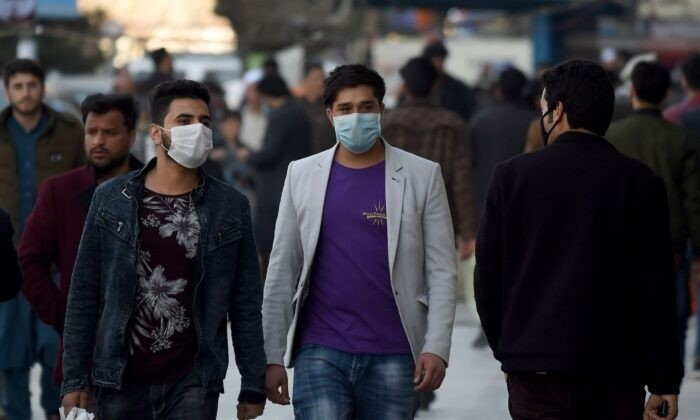face_no_mask: (81, 91, 136, 167), (4, 58, 45, 116)
face_with_mask: (149, 89, 222, 169), (324, 69, 384, 155)
